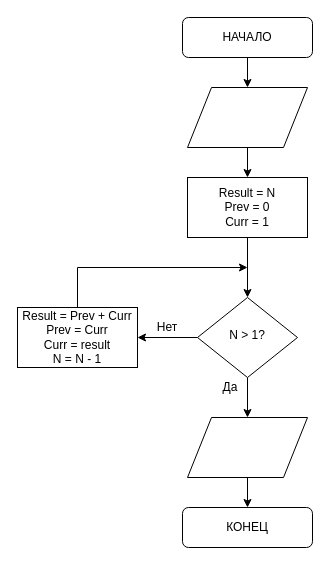
Some shapes in this 330 by 565 pixel diagram are drawn without their labels. The centre of each missing label's shape, as x and y in pixels:
Ввод N: the point at 247,117
Вывод N: the point at 247,447
